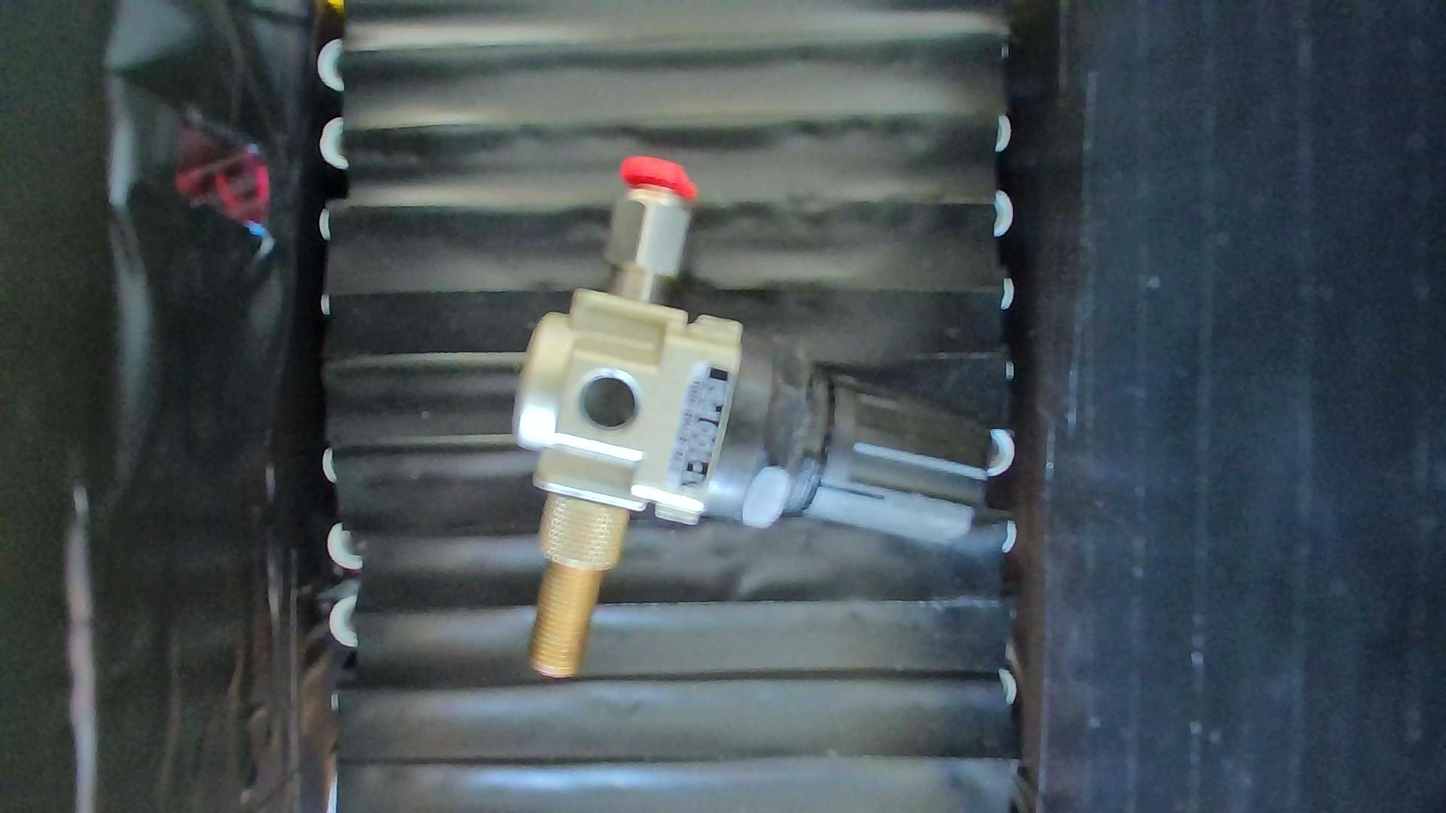regulator: (510, 155, 992, 680)
